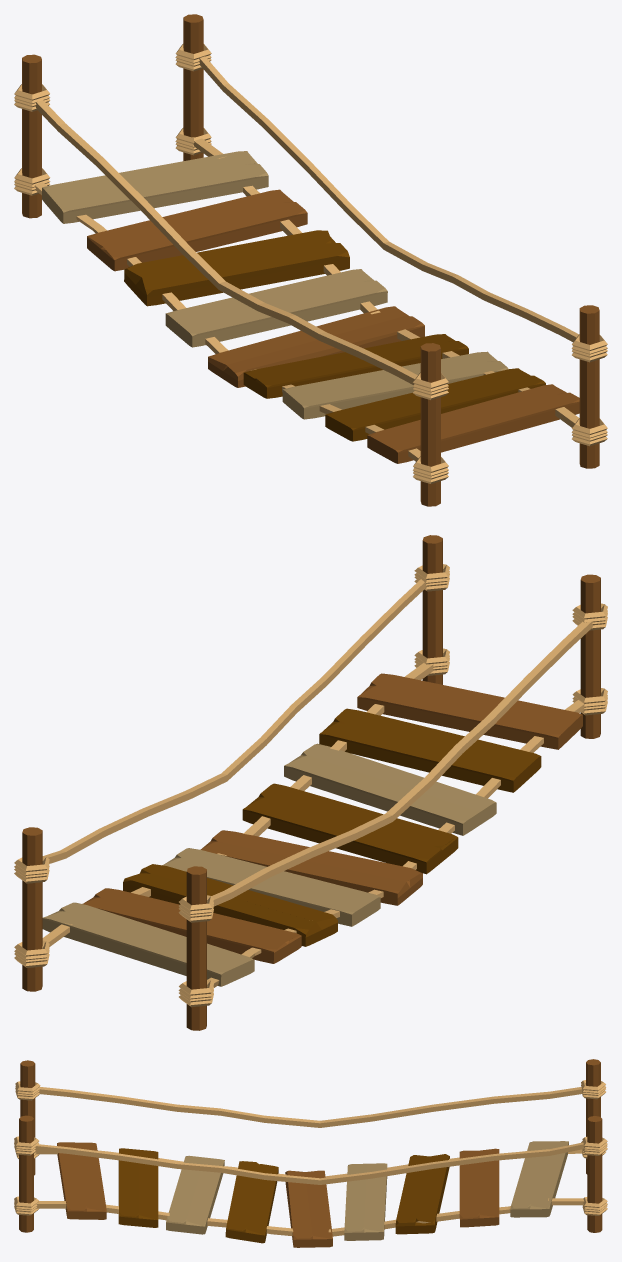
File: PONTE.fbx
The picture shows the model from 3 angles, top to bottom: view 1: azimuth 30°, elevation 25°; view 2: azimuth 150°, elevation 25°; view 3: azimuth 270°, elevation 25°; orthographic projection. The views are drawn at different scales.
Parts seen in each view (by area): view 1: Cube.006, Cube.008, Cube.007, Cube.005, Cube, Cube.004, Cube.013, Cube.002, Cube.001, Cube.012, Cube.003, Circle (+9 smaller); view 2: Cube.001, Cube.003, Cube, Cube.002, Cube.008, Cube.004, Cube.013, Cube.007, Cube.006, Cube.005, Cube.012, Circle.002 (+9 smaller); view 3: Cube.013, Cube.012, Cube.003, Cube.006, Cube.002, Cube.008, Cube, Cube.004, Cube.001, Cube.007, Cube.005, Cube.010 (+11 smaller).
Boxes of the visible parts, x1=… form: Cube.006: x1=124, y1=230, x2=349, y2=306; Cube.008: x1=42, y1=151, x2=268, y2=223; Cube.007: x1=87, y1=189, x2=307, y2=271; Cube.005: x1=165, y1=269, x2=387, y2=347; Cube: x1=367, y1=384, x2=579, y2=463; Cube.004: x1=208, y1=306, x2=424, y2=387; Cube.013: x1=35, y1=100, x2=417, y2=384; Cube.002: x1=282, y1=351, x2=508, y2=419; Cube.001: x1=325, y1=368, x2=545, y2=441; Cube.012: x1=199, y1=56, x2=578, y2=341; Cube.003: x1=243, y1=334, x2=468, y2=398; Circle: x1=420, y1=343, x2=440, y2=506; Cube.001: x1=319, y1=708, x2=541, y2=792; Cube.003: x1=242, y1=783, x2=458, y2=874; Cube: x1=357, y1=673, x2=582, y2=749; Cube.002: x1=284, y1=743, x2=496, y2=835; Cube.008: x1=42, y1=902, x2=254, y2=986; Cube.004: x1=200, y1=830, x2=422, y2=905; Cube.013: x1=211, y1=621, x2=592, y2=906; Cube.007: x1=82, y1=888, x2=301, y2=963; Cube.006: x1=123, y1=864, x2=337, y2=946; Cube.005: x1=162, y1=848, x2=380, y2=926; Cube.012: x1=43, y1=579, x2=425, y2=863; Circle.002: x1=22, y1=827, x2=42, y2=991; Cube.013: x1=39, y1=1087, x2=582, y2=1127; Cube.012: x1=35, y1=1142, x2=583, y2=1184; Cube.003: x1=225, y1=1161, x2=278, y2=1243; Cube.006: x1=395, y1=1154, x2=449, y2=1234; Cube.002: x1=166, y1=1155, x2=224, y2=1234; Cube.008: x1=510, y1=1141, x2=568, y2=1217; Cube: x1=57, y1=1142, x2=106, y2=1219; Cube.004: x1=285, y1=1170, x2=332, y2=1247; Cube.001: x1=118, y1=1148, x2=158, y2=1227; Cube.007: x1=459, y1=1148, x2=499, y2=1227; Cube.005: x1=344, y1=1163, x2=387, y2=1240; Cube.010: x1=36, y1=1198, x2=587, y2=1236.
Bounding box in the file's own units: 1104 × 892 × 3946.
